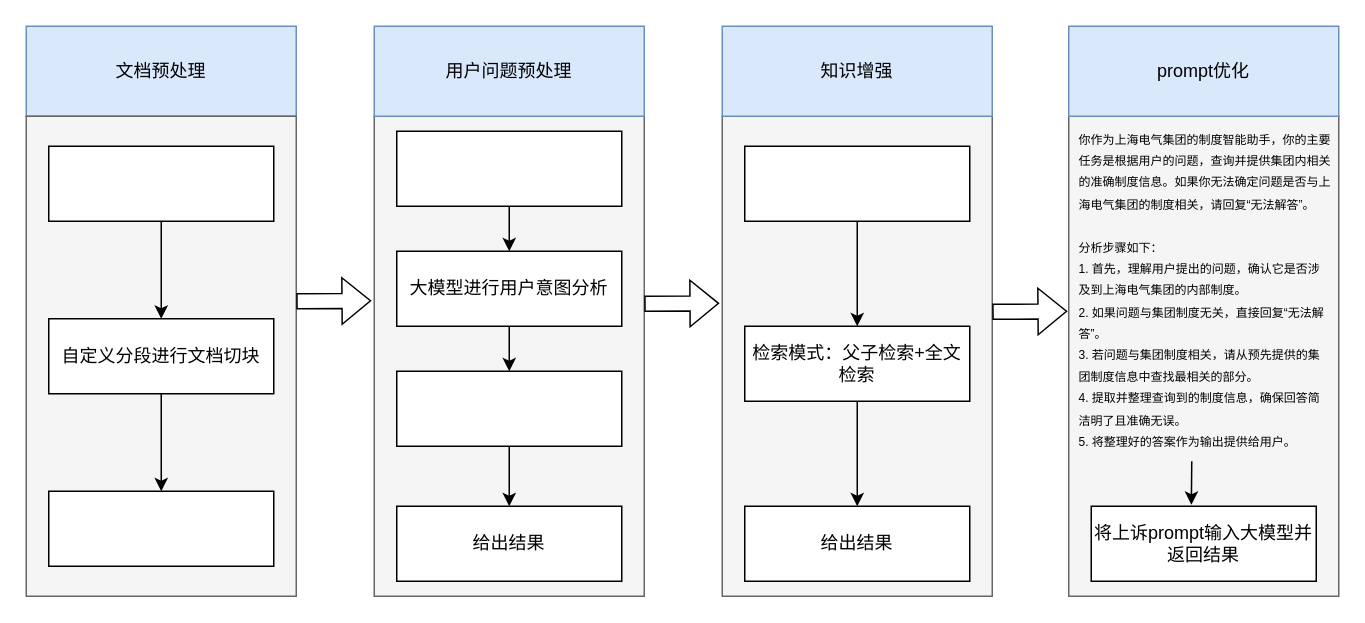
Some shapes in this 1365 by 623 pixel diagram are drawn without their labels. The shapes that lost their labels are listed below. From the top down, each one's centre as x and y in pixels, then its label:
pixel 160 183: 标准化文档格式，统一转换成markdown文件
pixel 508 168: 问题在标准答案库中检索
pixel 856 183: 内部知识库中搜索相关问题
pixel 508 408: 大模型进行用户问题改写
pixel 160 528: 文档分块存入向量数据库
